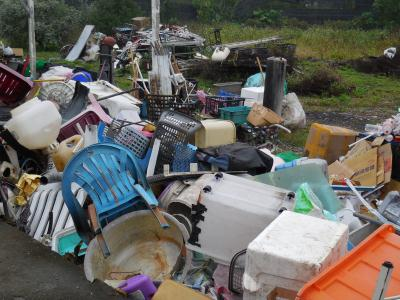bowl: (83, 208, 189, 291), (6, 95, 61, 149)
box: (184, 169, 312, 272), (304, 123, 359, 160), (243, 102, 288, 135), (196, 118, 234, 149)
styrofoam: (245, 207, 348, 283)
